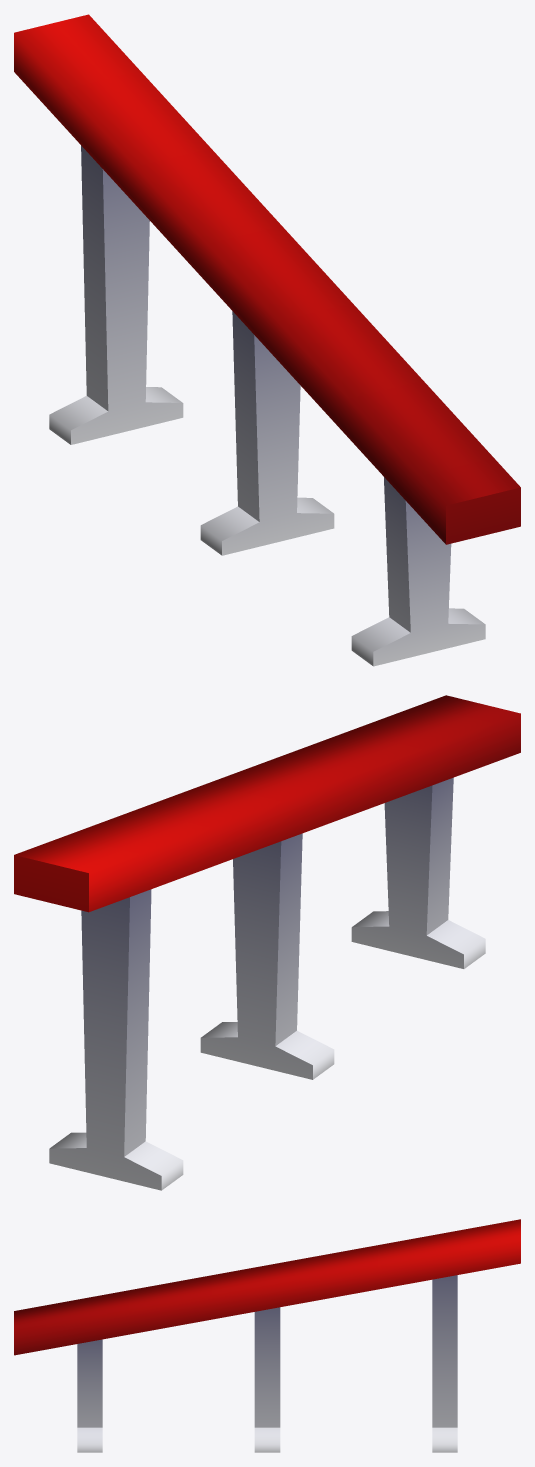
The model's file is rail-slope.fbx.
The picture shows the model from 3 angles, top to bottom: view 1: azimuth 30°, elevation 25°; view 2: azimuth 150°, elevation 25°; view 3: azimuth 270°, elevation 25°; orthographic projection. The views are drawn at different scales.
Visible parts, largest first — view 1: rail-slope; view 2: rail-slope; view 3: rail-slope.
Boxes of the visible parts, left/top/right/bottom form: rail-slope: left=14, top=14, right=520, bottom=666; rail-slope: left=14, top=695, right=520, bottom=1190; rail-slope: left=14, top=1219, right=520, bottom=1452.
Size of the model in its own units: 1.5 by 4.5 by 10.
